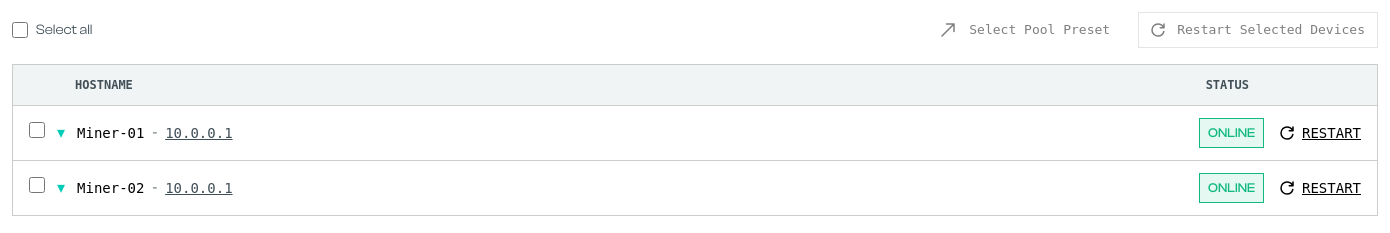
Test: DeviceSettingsAccordion additional coverage › updates existing checked item and renders X/Y selected
The image size is (1390, 233).
First click adds a new checked entry.
Click the checkbox next to "miner-01" at point(37, 130), box [29,122,45,138]
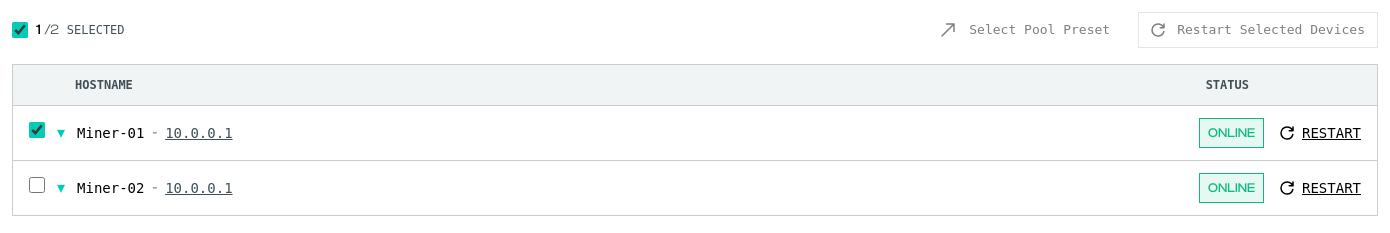
Check: the text "Select all" is gone
Check: the text "selected" is shown, box [67,22,125,38]
Check: the text "/2" is shown, box [45,20,59,40]
Second click updates the existing checked entry.
Click the checkbox next to "miner-01" at point(37, 130), box [29,122,45,138]
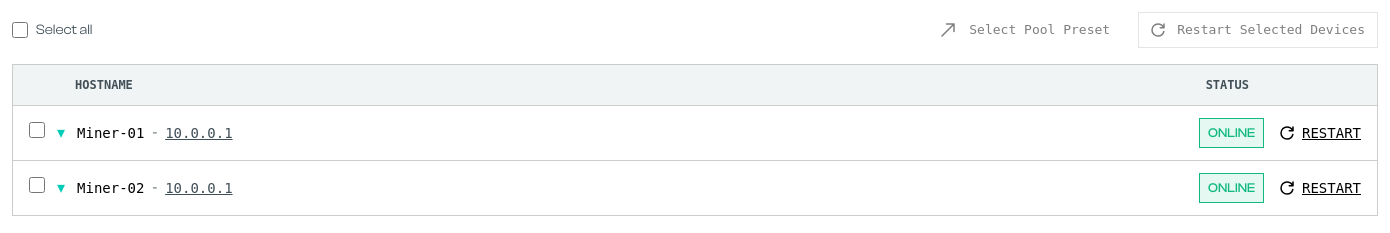
Check: the text "Select all" is shown, box [36,20,92,40]
Third click re-checks the same entry.
Click the checkbox next to "miner-01" at point(37, 130), box [29,122,45,138]
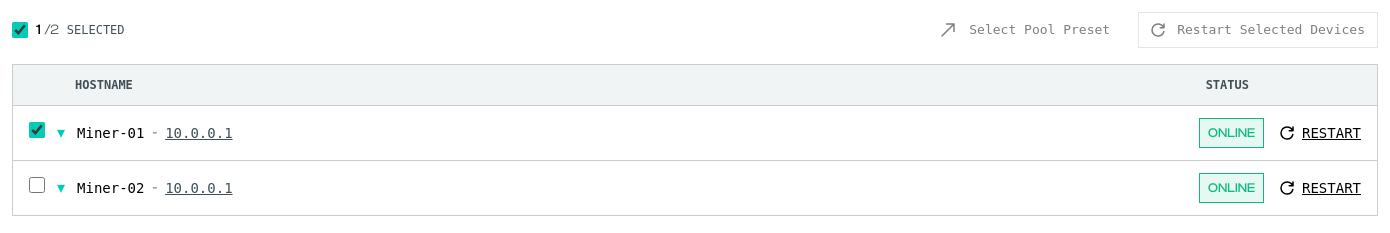
Check: the text "selected" is shown, box [67,22,125,38]
